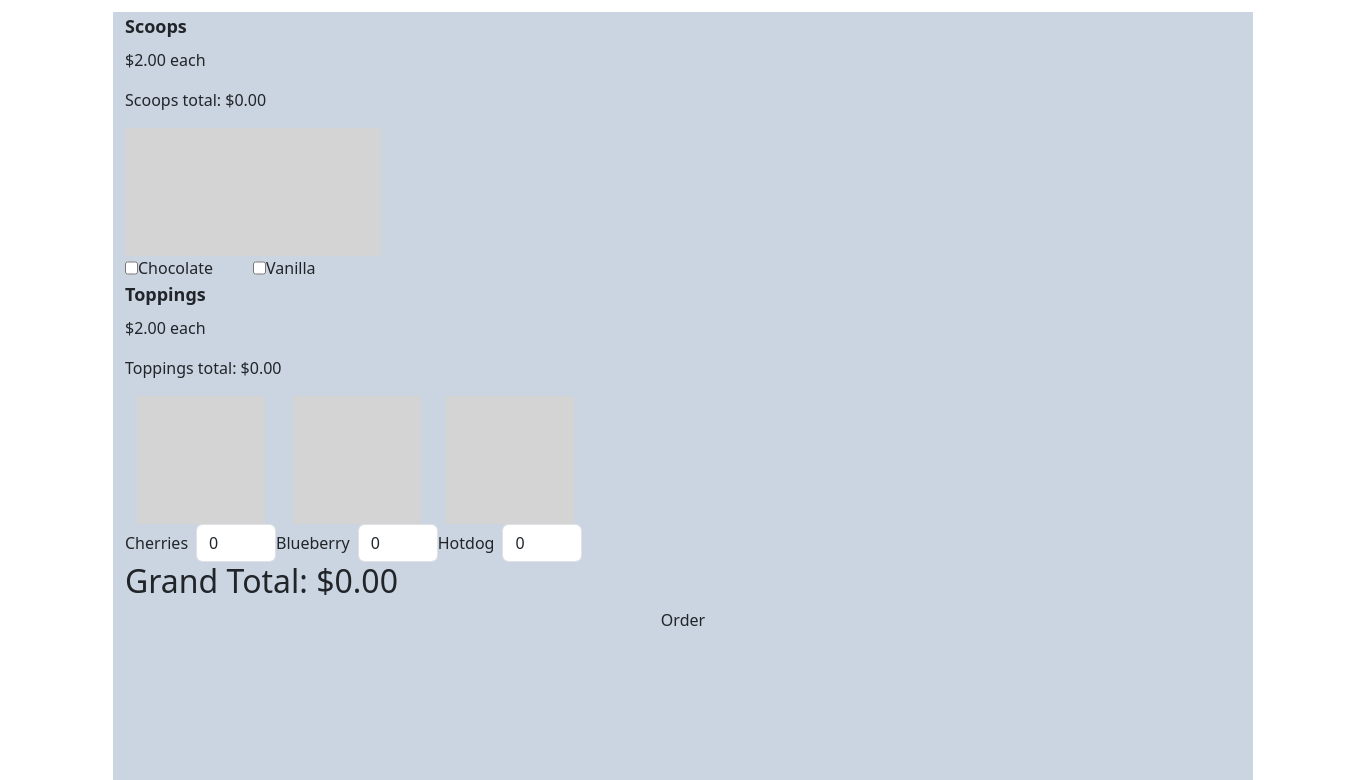
Test case: Happy Test › 주문 생성 및 summary 페이지 이동
This screenshot has width=1366, height=780.
Check: the heading "Grand Total: $0.00" is shown, box [125,559,398,602]
Replace the text in the number field labelled "Cherries" with "2" at (236, 543), box [196,524,276,562]
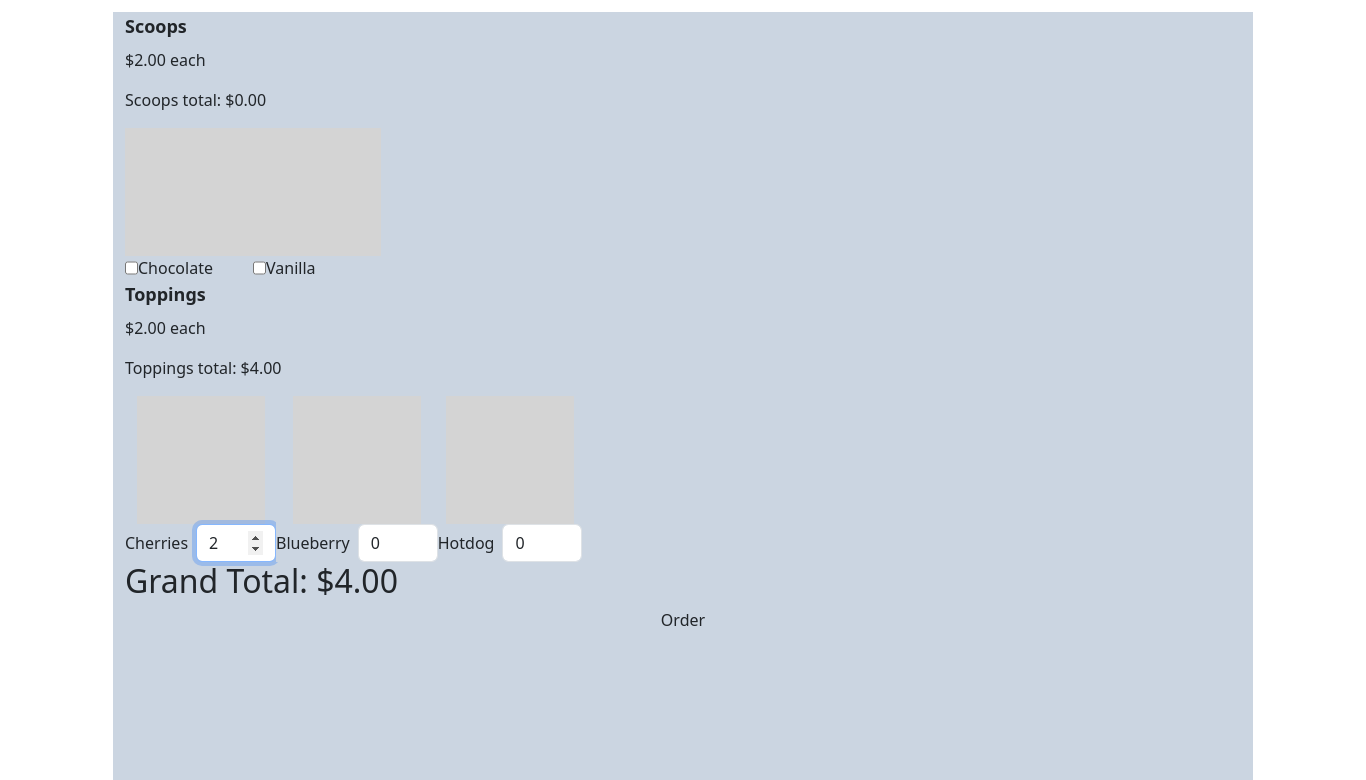
Click the checkbox labelled "Chocolate".
click(132, 268)  # box [125,256,138,280]
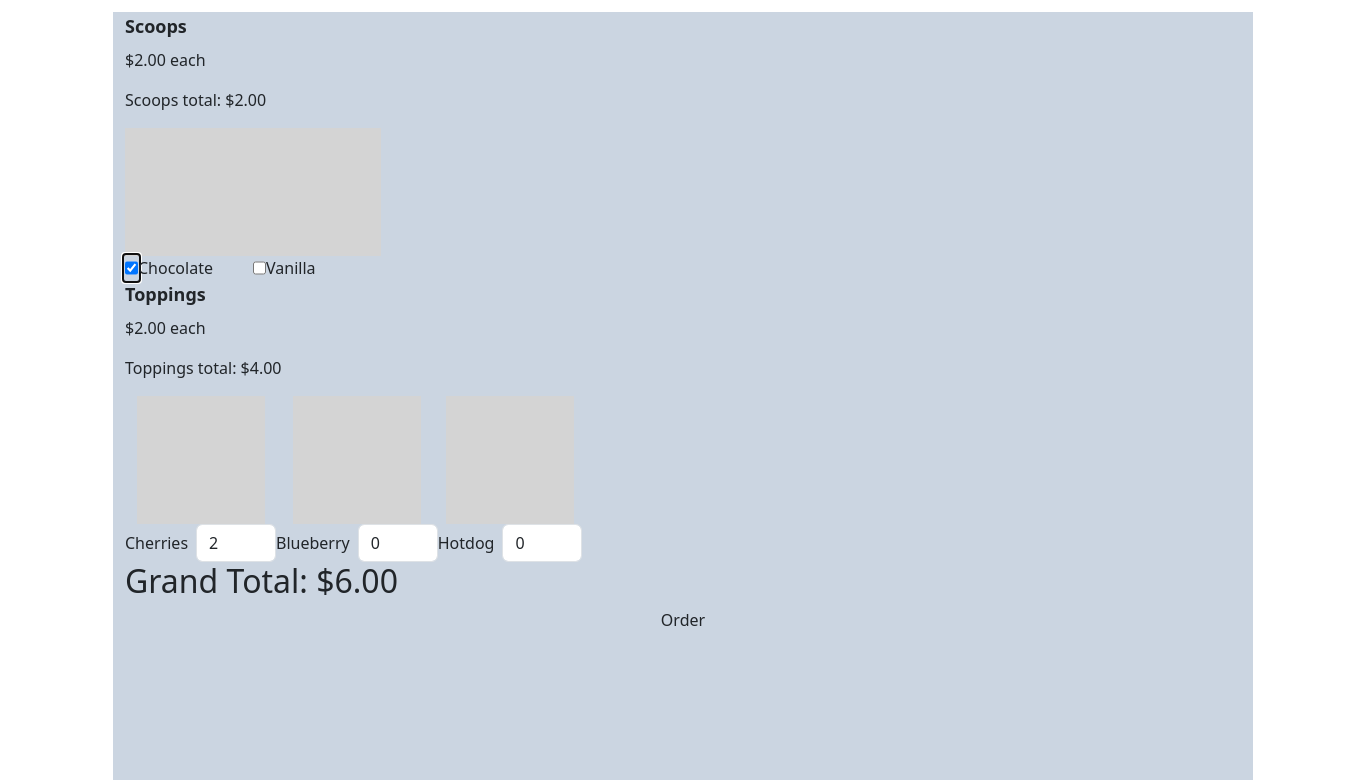
Check: the text "Order Summary" is not shown
Check: the heading "Grand Total: $6.00" is shown, box [125,559,398,602]
Click the button "Order".
click(683, 620)  # box [125,608,1241,632]
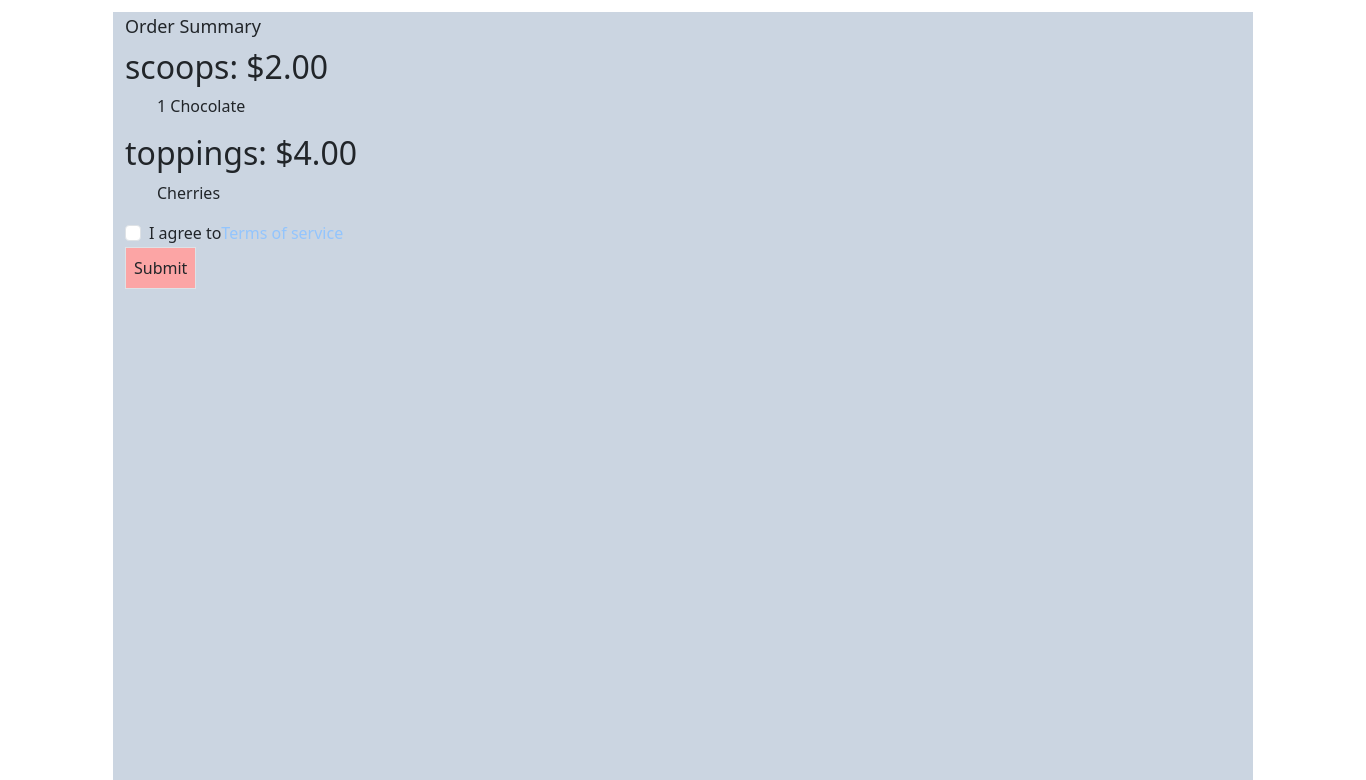
Check: the heading "Order Summary" is shown, box [125,14,261,38]
